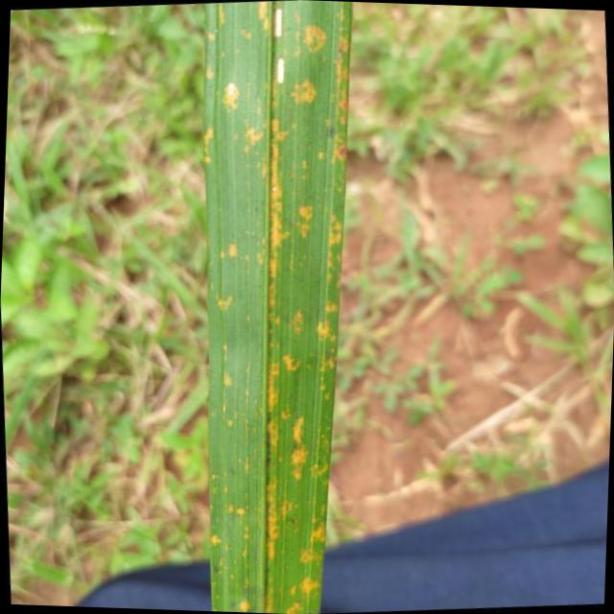Kalium: (203, 0, 352, 614)
